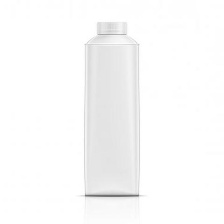carton: (72, 18, 146, 199)
